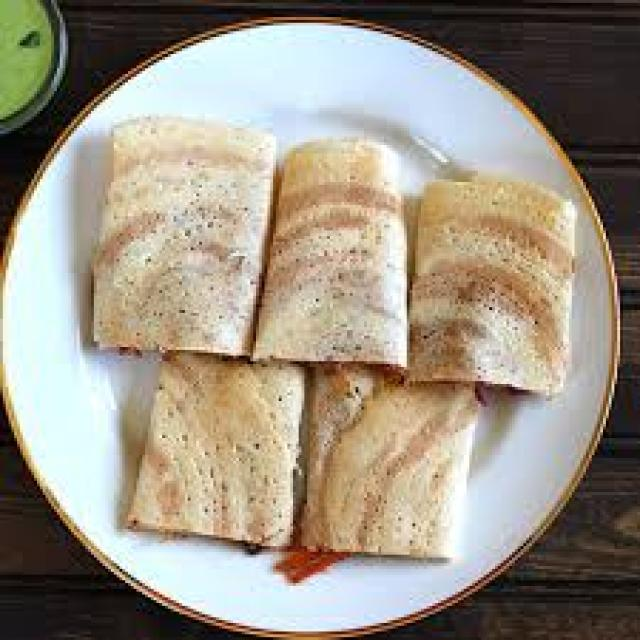DOSA: (91, 117, 273, 353), (250, 139, 404, 364), (410, 174, 572, 384), (128, 353, 302, 543), (304, 364, 478, 552)
